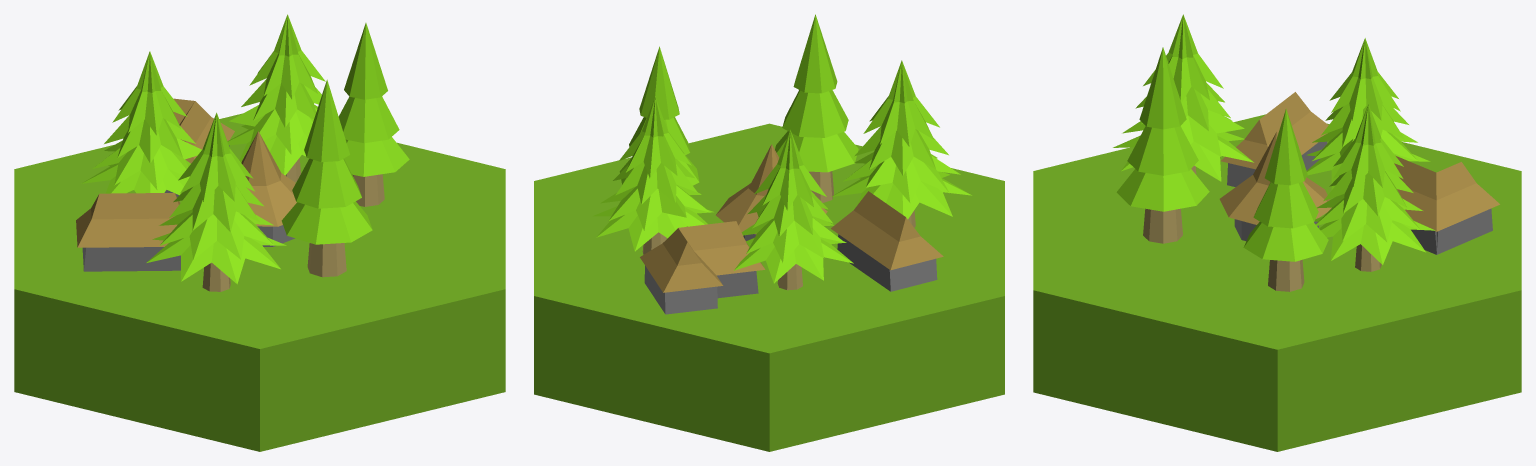
The model's file is Casas_Bosque_Pinos_5.fbx.
The picture shows the model from 3 angles, left to right: view 1: azimuth 30°, elevation 25°; view 2: azimuth 150°, elevation 25°; view 3: azimuth 270°, elevation 25°; orthographic projection. The views are drawn at different scales.
Parts seen in each view (by area): view 1: Casas_Bosque_Pinos_5; view 2: Casas_Bosque_Pinos_5; view 3: Casas_Bosque_Pinos_5.
Boxes of the visible parts, left/top/right/bottom form: Casas_Bosque_Pinos_5: left=14, top=14, right=505, bottom=451; Casas_Bosque_Pinos_5: left=534, top=14, right=1004, bottom=451; Casas_Bosque_Pinos_5: left=1033, top=14, right=1521, bottom=451.
Size of the model in its own units: 200 by 114 by 173.
